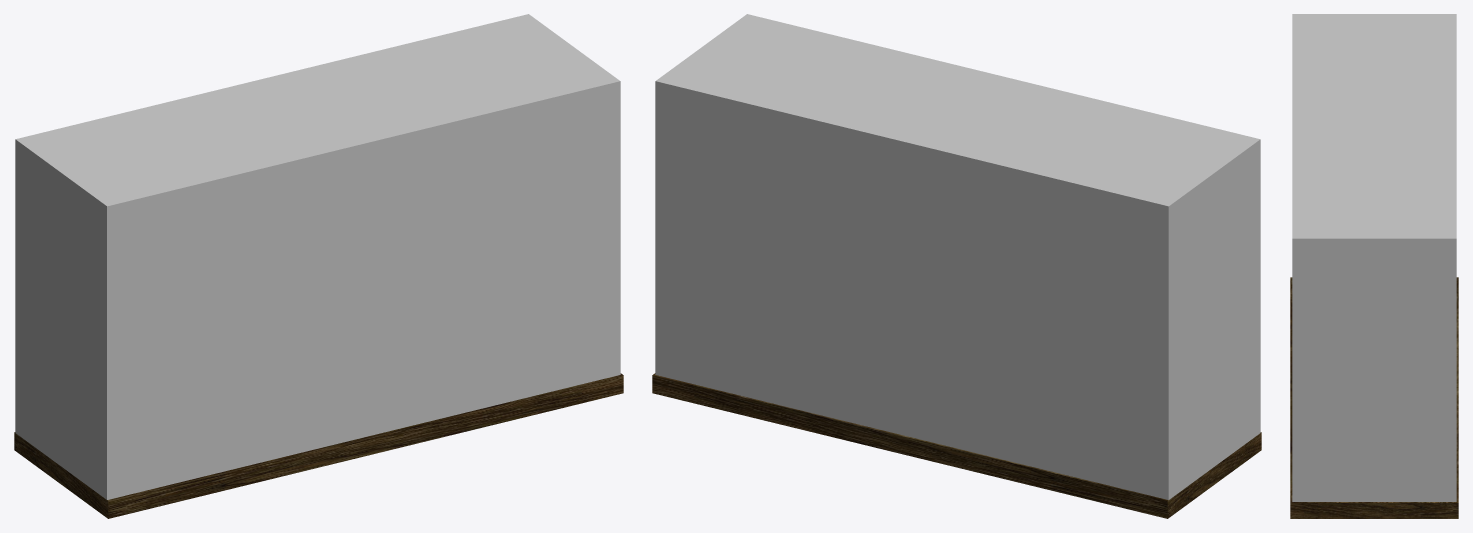
The model's file is inside wall.FBX.
3 renders of one model, left to right at view 1: azimuth 30°, elevation 25°; view 2: azimuth 150°, elevation 25°; view 3: azimuth 270°, elevation 25°, orthographic. The views are drawn at different scales.
Visible parts, largest first — view 1: inside wall; view 2: inside wall; view 3: inside wall.
Boxes of the visible parts, bbox=[...] form: inside wall: bbox=[14, 14, 623, 518]; inside wall: bbox=[652, 14, 1261, 518]; inside wall: bbox=[1290, 14, 1458, 518].
Bounding box in the file's own units: 6747 × 2130 × 3900.
